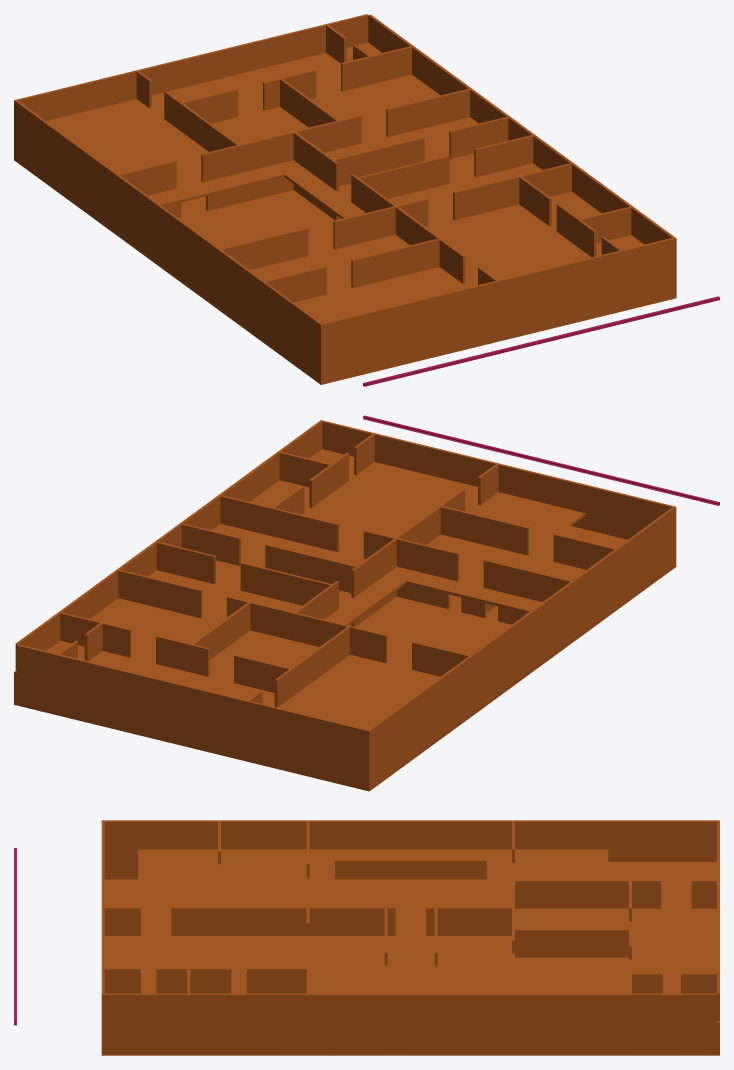
File: bulding.obj
3 views of the same model, one above another, from view 1: azimuth 30°, elevation 25°; view 2: azimuth 150°, elevation 25°; view 3: azimuth 270°, elevation 25° (orthographic).
Parts seen in each view (by area): view 1: Box011, Box012; view 2: Box011, Box012; view 3: Box011, Box012.
Part boxes in pixels (x1,y1,x2,y2): Box011: (14, 14, 676, 384); Box012: (363, 296, 719, 386); Box011: (14, 420, 676, 791); Box012: (363, 415, 719, 505); Box011: (101, 820, 719, 1055); Box012: (14, 848, 16, 1025).
Bounding box in the file's own units: 1610 × 260 × 2751.
